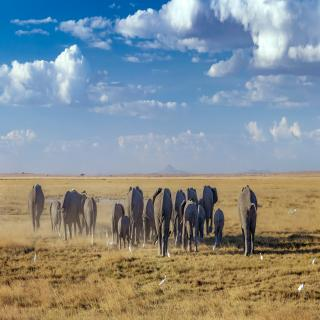Elephant: (237, 180, 260, 257), (153, 186, 173, 259)
